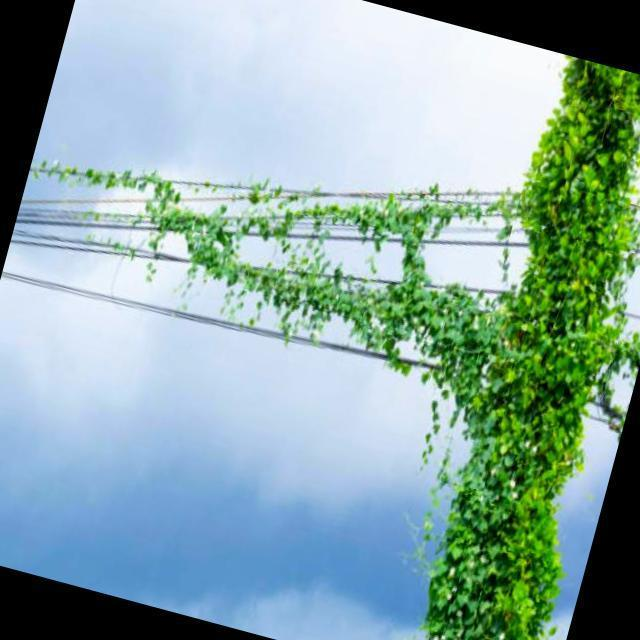critical vegetation: (379, 55, 640, 640)
